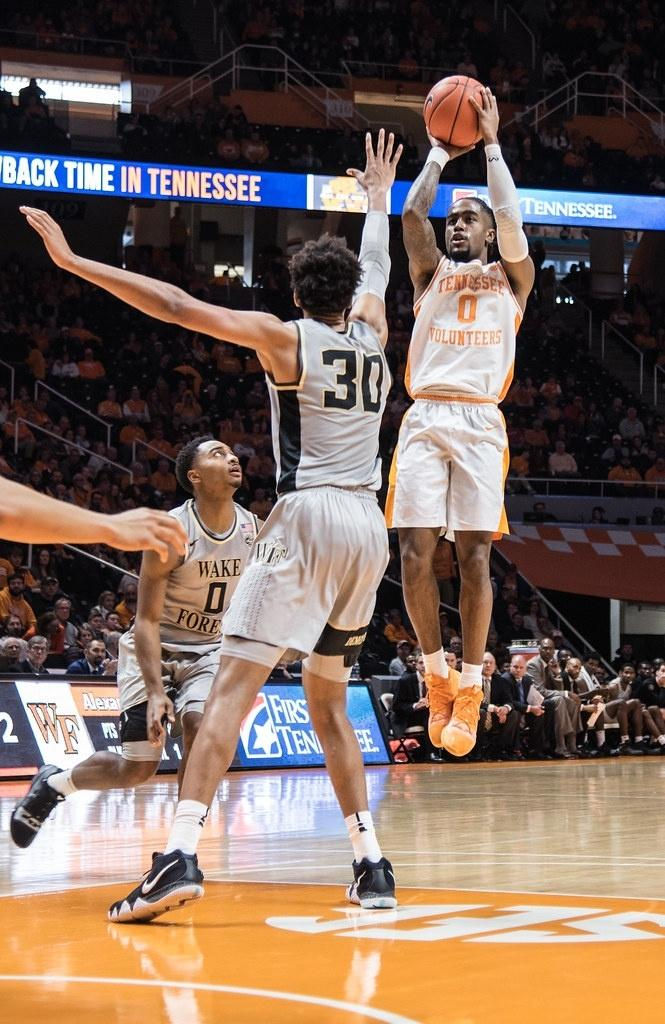basketball-player: (14, 126, 403, 923), (14, 390, 282, 925), (385, 78, 566, 764)
